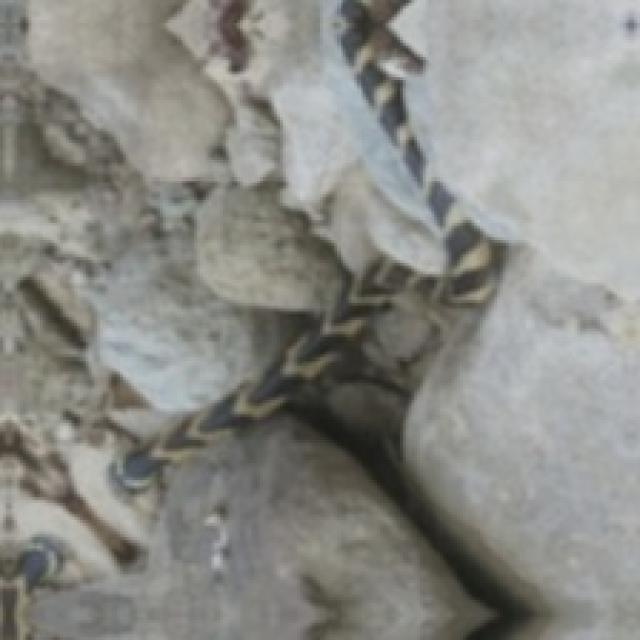king cobra: (111, 0, 503, 489)
